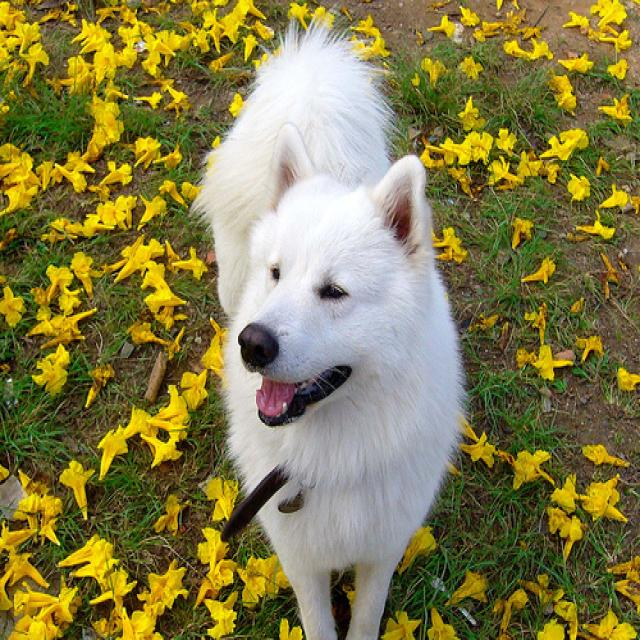dog-samoyed: (184, 11, 468, 637)
